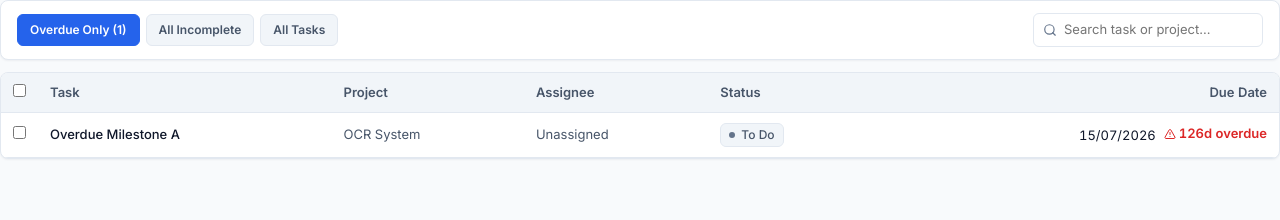
Test case: TasksBulkManagePanel › can switch filter to All Incomplete to view and bulk shift end dates
Step 1. Click the button "All Incomplete" → click(200, 30), box [146, 14, 254, 46]
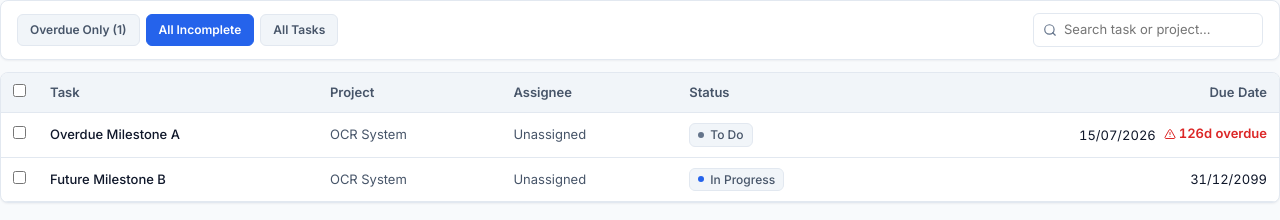
Expected: the text "Overdue Milestone A" is shown, [38, 112, 318, 157]
Expected: the text "Future Milestone B" is shown, [38, 157, 318, 202]
